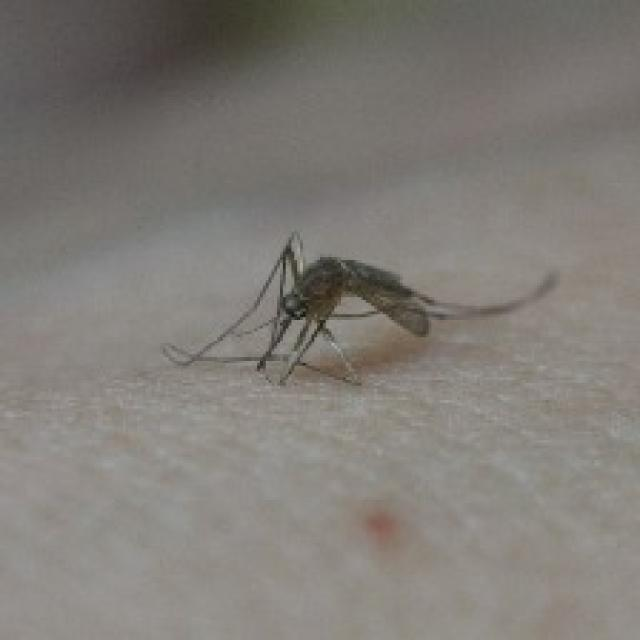culex: (160, 228, 560, 386)
